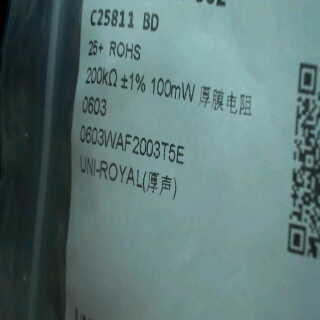200kR: (83, 66, 121, 92)
